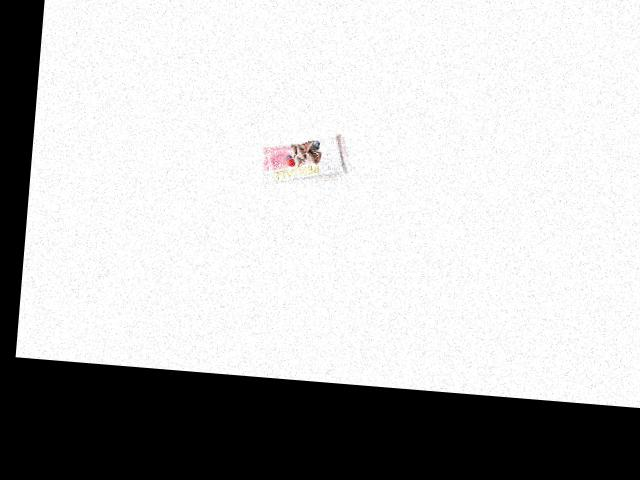chocolate: (260, 125, 348, 193)
